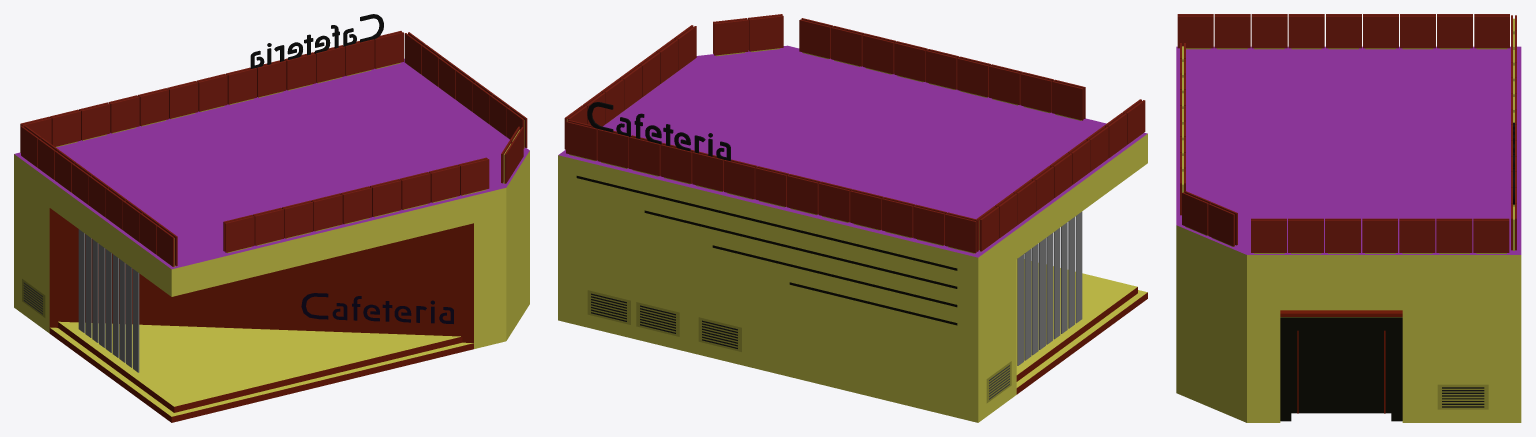
Rendered from Building_Cafe_004_L3.fbx.
3 views of the same model, side by side, from view 1: azimuth 30°, elevation 25°; view 2: azimuth 150°, elevation 25°; view 3: azimuth 270°, elevation 25° (orthographic). The views are drawn at different scales.
Visible parts, largest first — view 1: Building_Cafe_004_L3; view 2: Building_Cafe_004_L3; view 3: Building_Cafe_004_L3.
Boxes of the visible parts, bbox=[...] form: Building_Cafe_004_L3: bbox=[14, 14, 529, 422]; Building_Cafe_004_L3: bbox=[558, 14, 1147, 422]; Building_Cafe_004_L3: bbox=[1176, 14, 1521, 422].
Bounding box in the file's own units: 13.51 × 6.8 × 9.31.
